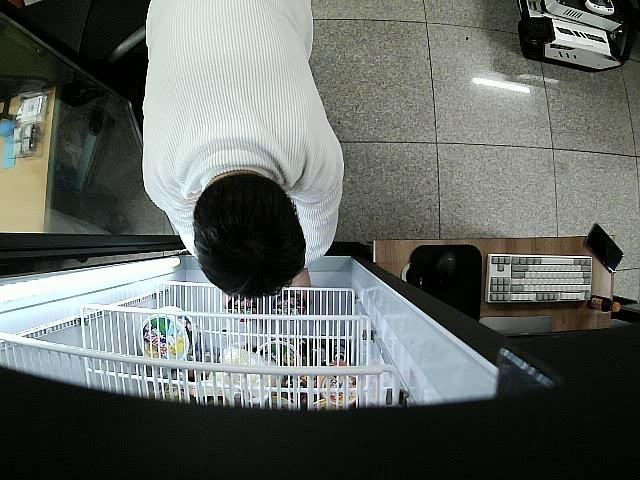08_buldak_S: (272, 290, 307, 318)
